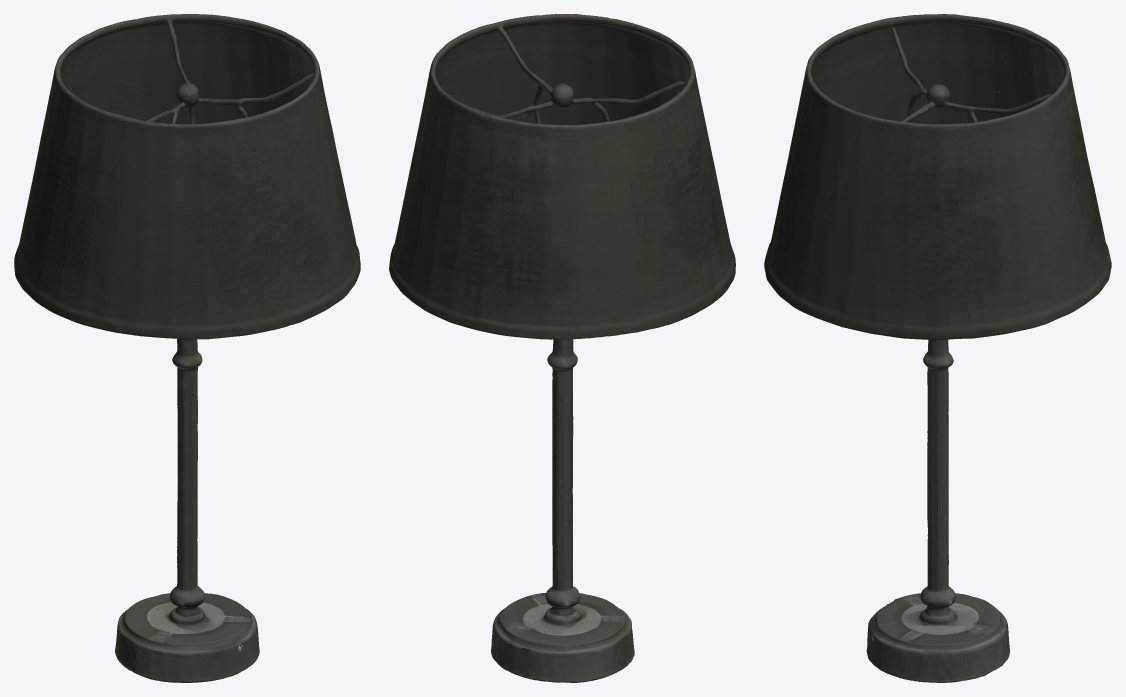
The model's file is Onyx_Table_Lamp.glb.
The picture shows the model from 3 angles, left to right: view 1: azimuth 30°, elevation 25°; view 2: azimuth 150°, elevation 25°; view 3: azimuth 270°, elevation 25°; orthographic projection.
Size of the model in its own units: 1.08 by 2.01 by 1.08.
1 material, 1 textured.
